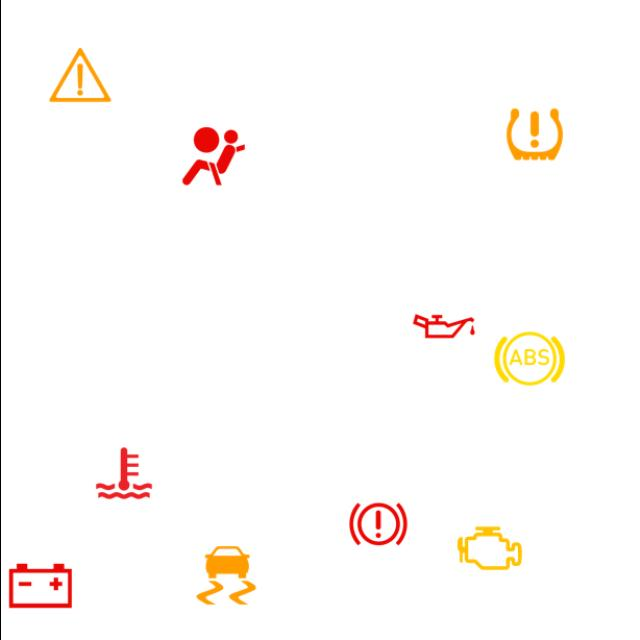Anti Lock Braking System: (490, 320, 567, 397)
Braking System Issue: (339, 486, 416, 563)
Charging System Issue: (1, 548, 78, 624)
Check Engine: (450, 510, 528, 587)
Electronic Stability Problem -ESP-: (186, 537, 264, 614)
Engine Overheating Warning Light: (85, 434, 162, 512)
Low Engine Oil Warning Light: (404, 288, 482, 365)
Low Tire Pressure Warning Light: (495, 96, 572, 173)
Master warning light: (41, 36, 118, 114)
SRS-Airbag: (174, 118, 251, 195)
